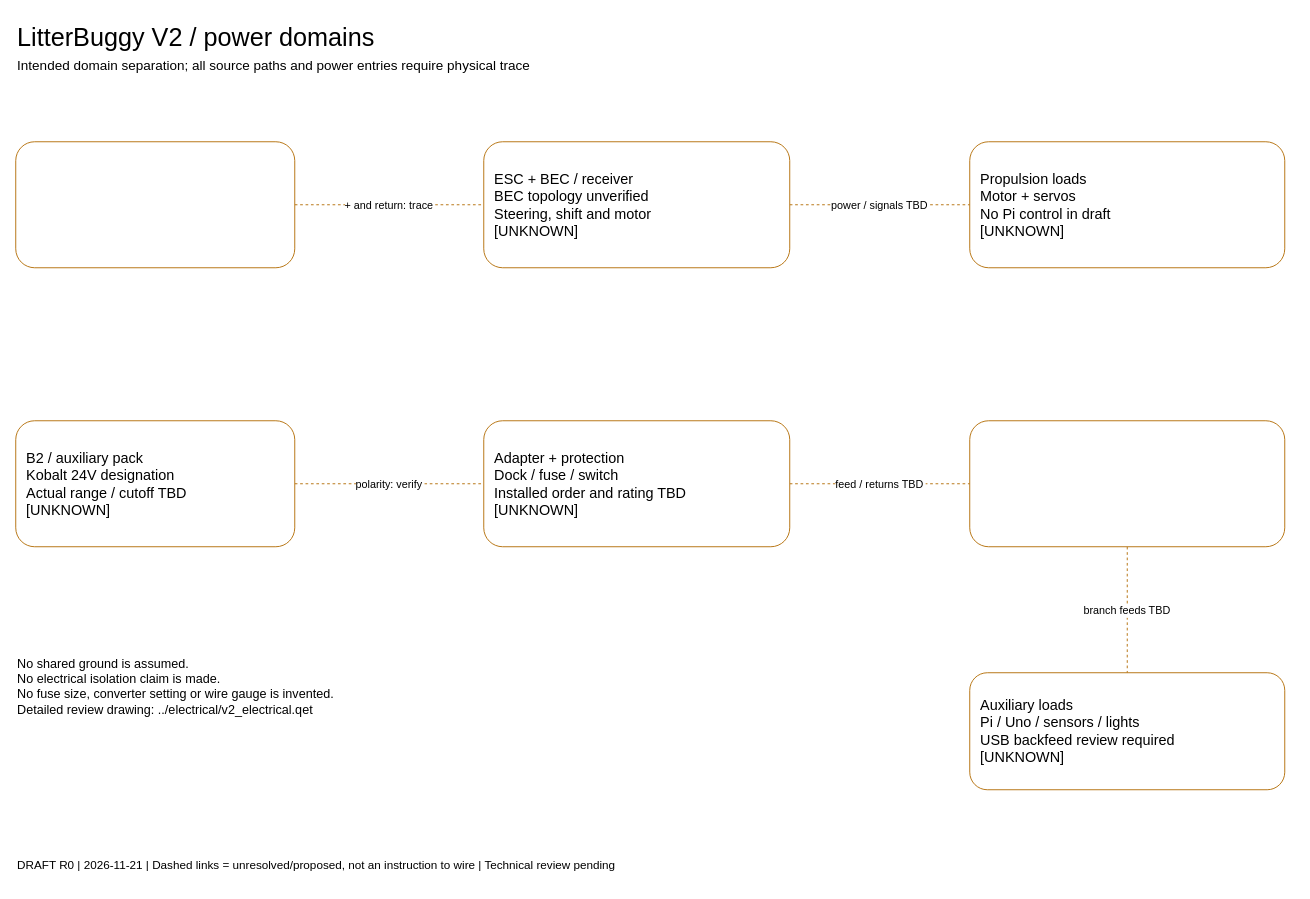
Some shapes in this 1310 by 899 pixel diagram are drawn without their labels. The centre of each missing label's shape, as x and y in pixels:
"B1 / propulsion pack 3S named in owner scope Chemistry / connector TBD [UNKNOWN]" goes at [155,204].
"DC/DC converters 5V / 12V from repository Input ratings / settings TBD [UNKNOWN]" goes at [1127,483].
